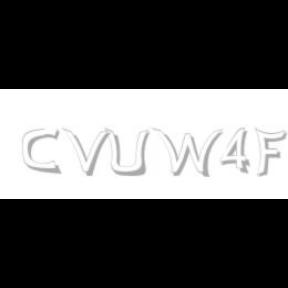4: (220, 128, 250, 174)
C: (22, 128, 60, 174)
F: (254, 128, 286, 178)
U: (104, 128, 148, 178)
V: (62, 128, 110, 176)
W: (151, 128, 223, 178)
